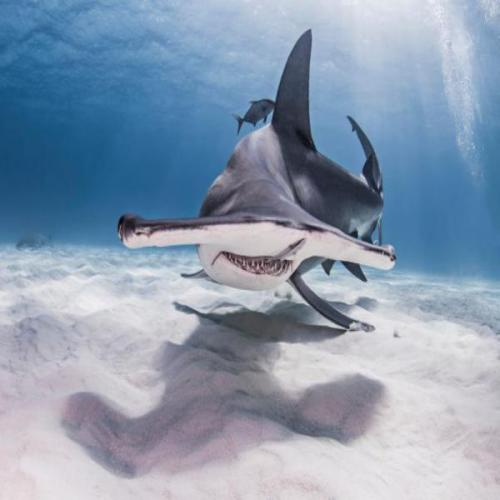shark-endangered: (116, 26, 398, 333)
